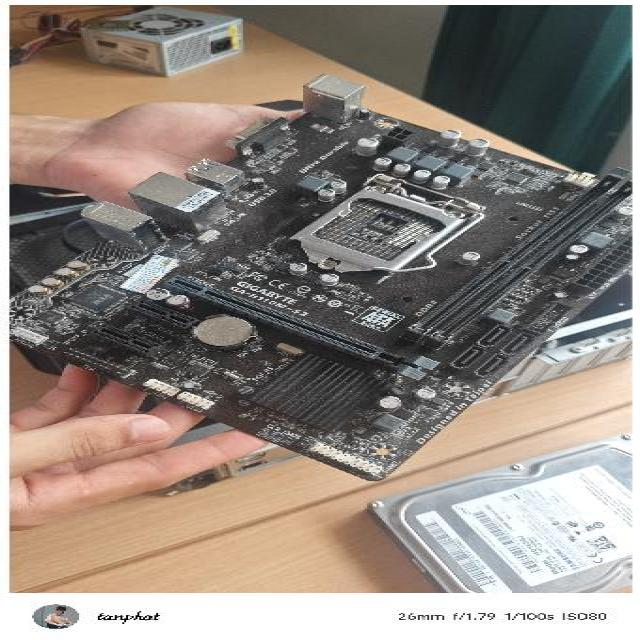DISK: (354, 435, 640, 593)
Mainboard: (6, 65, 628, 482)
PSU: (17, 6, 282, 80)
